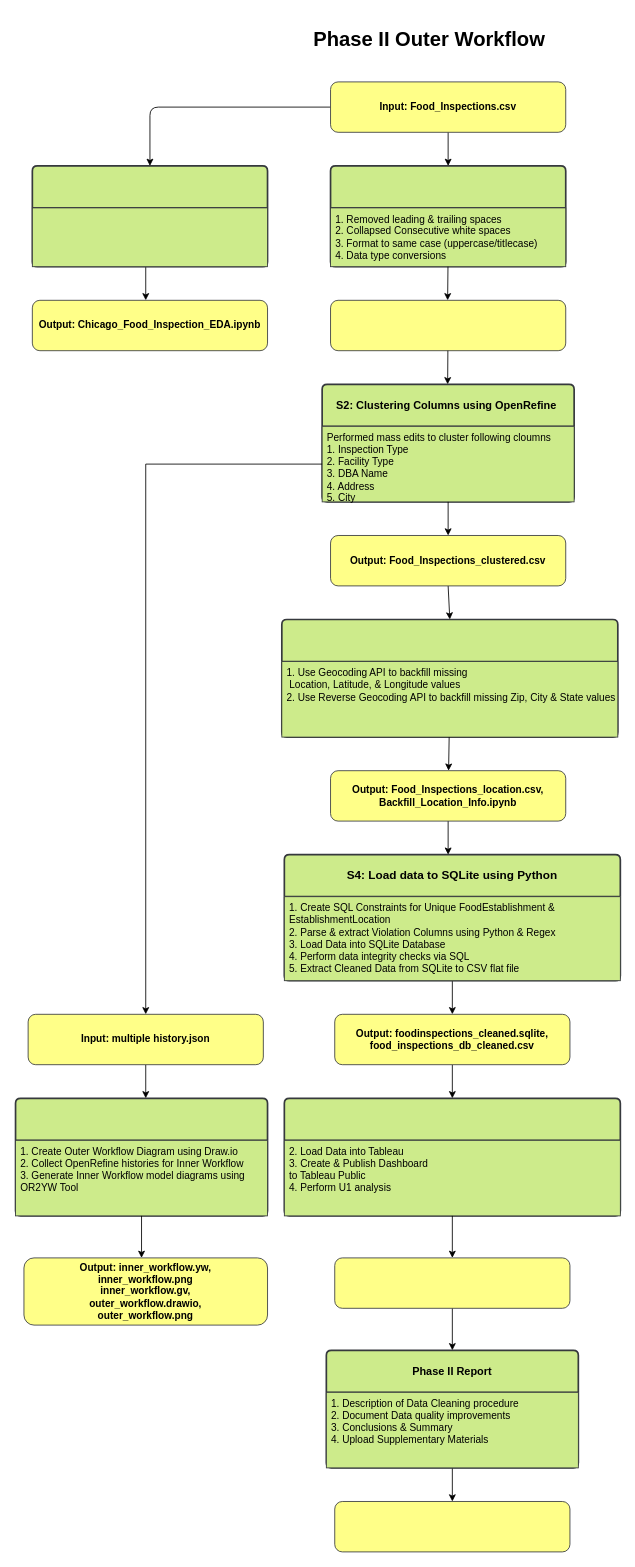
This 635x1567 diagram has some shape labels left out. Each missing label, with the box of its shape:
1. Check for Missing values 2. Check for Duplicate values: (32, 207, 268, 267)
Output: ChicagoFoodInspectionDashboard.twb: (334, 1257, 570, 1308)
Output: CS513-Phase-2-report-final.pdf: (334, 1501, 570, 1552)
Output: Food_Inspections_general_cleaning.csv: (330, 299, 566, 351)
S0: Data Profiling & Exploratory Analysis using Python notebook: (31, 165, 268, 267)
S1: General Data Cleaning uisng OpenRefine: (329, 165, 566, 267)
S3: Repair Missing Location Data using Python Notebook: (281, 618, 618, 738)
S5: Create Workflow Model: (14, 1097, 268, 1216)
S6: Perform Data Visualization & U1 Analysis: (283, 1097, 621, 1216)
